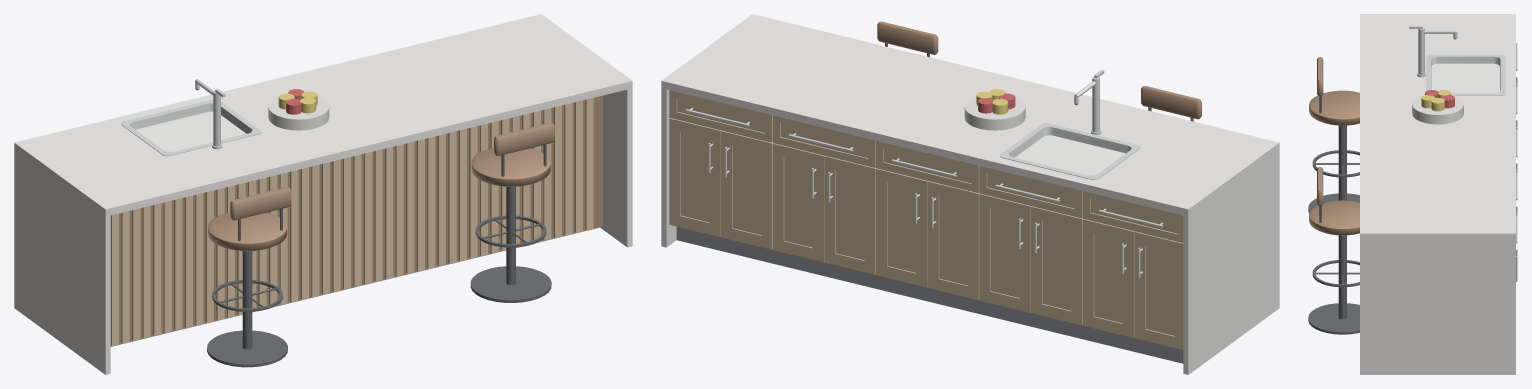
The picture shows the model from 3 angles, left to right: view 1: azimuth 30°, elevation 25°; view 2: azimuth 150°, elevation 25°; view 3: azimuth 270°, elevation 25°; orthographic projection. The views are drawn at different scales.
Parts seen in each view (by area): view 1: Đảo bếp Dài=3000; Rộng=900; view 2: Đảo bếp Dài=3000; Rộng=900; view 3: Đảo bếp Dài=3000; Rộng=900.
Boxes of the visible parts, x1=… form: Đảo bếp Dài=3000; Rộng=900: x1=14, y1=14, x2=632, y2=374; Đảo bếp Dài=3000; Rộng=900: x1=661, y1=14, x2=1279, y2=374; Đảo bếp Dài=3000; Rộng=900: x1=1308, y1=14, x2=1517, y2=374.
Bounding box in the file's own units: 3 × 1.21 × 1.21.
